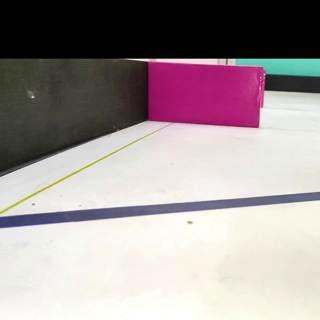xparking: (155, 66, 263, 126)
